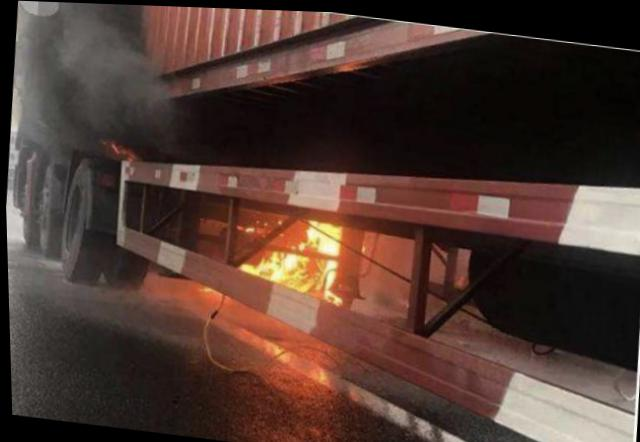fire: (222, 200, 357, 330)
